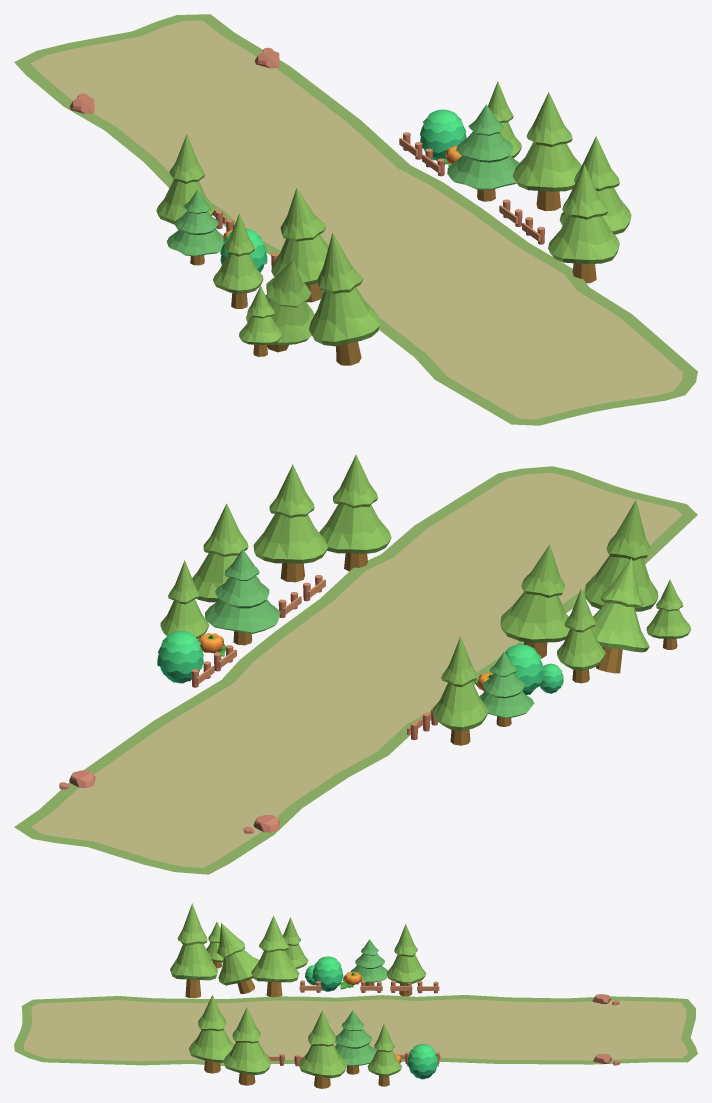
File: Stage01_plant_base.fbx
3 views of the same model, one above another, from view 1: azimuth 30°, elevation 25°; view 2: azimuth 150°, elevation 25°; view 3: azimuth 270°, elevation 25° (orthographic). The views are drawn at different scales.
Parts seen in each view (by area): view 1: Plane (1), MapDeco_Natural_Tree_Evergreen_03 (6), MapDeco_Natural_Tree_Evergreen_03 (14), MapDeco_Natural_Tree_Evergreen_03 (13), Cylinder02, MapDeco_Natural_Tree_Evergreen_03 (12), MapDeco_Natural_Tree_Evergreen_03 (7), MapDeco_Natural_Tree_Evergreen_03 (9), Tree1, MapDeco_Natural_Tree_Evergreen_03 (7) 1, MapDeco_Natural_Tree_Evergreen_03 (11), Bush1 (+3 smaller); view 2: Plane (1), MapDeco_Natural_Tree_Evergreen_03 (11), MapDeco_Natural_Tree_Evergreen_03 (14), MapDeco_Natural_Tree_Evergreen_03 (12), Cylinder02, MapDeco_Natural_Tree_Evergreen_03 (7), MapDeco_Natural_Tree_Evergreen_03 (6), MapDeco_Natural_Tree_Evergreen_03 (7) 1, MapDeco_Natural_Tree_Evergreen_03 (13), MapDeco_Natural_Tree_Evergreen_03 (9), Tree1, MapDeco_Natural_Tree_Evergreen_03 (8) (+3 smaller); view 3: Plane (1), MapDeco_Natural_Tree_Evergreen_03 (6), MapDeco_Natural_Tree_Evergreen_03 (11), MapDeco_Natural_Tree_Evergreen_03 (12), MapDeco_Natural_Tree_Evergreen_03 (13), MapDeco_Natural_Tree_Evergreen_03 (14), MapDeco_Natural_Tree_Evergreen_03 (7), Cylinder02, MapDeco_Natural_Tree_Evergreen_03 (7) 1, MapDeco_Natural_Tree_Evergreen_03 (8), Tree1, Bush1 (+3 smaller).
Part boxes in pixels (x1,y1,x2,y2): Plane (1): (14,14,697,425); MapDeco_Natural_Tree_Evergreen_03 (6): (309,233,379,365); MapDeco_Natural_Tree_Evergreen_03 (14): (548,164,619,283); MapDeco_Natural_Tree_Evergreen_03 (13): (512,92,581,211); Cylinder02: (447,104,519,201); MapDeco_Natural_Tree_Evergreen_03 (12): (271,188,328,302); MapDeco_Natural_Tree_Evergreen_03 (7): (246,259,314,352); MapDeco_Natural_Tree_Evergreen_03 (9): (213,213,263,308); Tree1: (166,190,224,265); MapDeco_Natural_Tree_Evergreen_03 (7) 1: (156,134,214,224); MapDeco_Natural_Tree_Evergreen_03 (11): (559,136,631,234); Bush1: (420,109,466,160); Plane (1): (14,466,697,874); MapDeco_Natural_Tree_Evergreen_03 (11): (253,464,328,582); MapDeco_Natural_Tree_Evergreen_03 (14): (319,454,391,571); MapDeco_Natural_Tree_Evergreen_03 (12): (500,544,570,658); Cylinder02: (205,549,280,645); MapDeco_Natural_Tree_Evergreen_03 (7): (591,558,649,673); MapDeco_Natural_Tree_Evergreen_03 (6): (584,500,658,611); MapDeco_Natural_Tree_Evergreen_03 (7) 1: (432,636,488,745); MapDeco_Natural_Tree_Evergreen_03 (13): (192,503,260,602); MapDeco_Natural_Tree_Evergreen_03 (9): (557,588,605,683); Tree1: (479,652,534,726); MapDeco_Natural_Tree_Evergreen_03 (8): (160,560,209,639); Plane (1): (14,995,697,1065); MapDeco_Natural_Tree_Evergreen_03 (6): (170,903,218,997); MapDeco_Natural_Tree_Evergreen_03 (11): (223,1007,271,1085); MapDeco_Natural_Tree_Evergreen_03 (12): (251,916,299,997); MapDeco_Natural_Tree_Evergreen_03 (13): (298,1010,346,1088); MapDeco_Natural_Tree_Evergreen_03 (14): (189,995,234,1073); MapDeco_Natural_Tree_Evergreen_03 (7): (217,923,259,993); Cylinder02: (335,1010,376,1074); MapDeco_Natural_Tree_Evergreen_03 (7) 1: (387,924,426,996); MapDeco_Natural_Tree_Evergreen_03 (8): (367,1023,401,1086); Tree1: (350,939,387,985); Bush1: (407,1044,438,1079).
Size of what is drawn, in the model's own units: 1263 by 408 by 2694.
